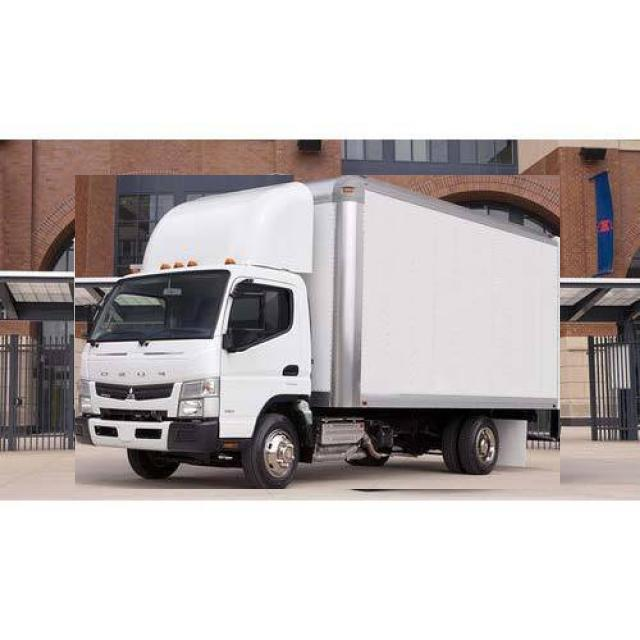truck: (75, 175, 560, 489)
